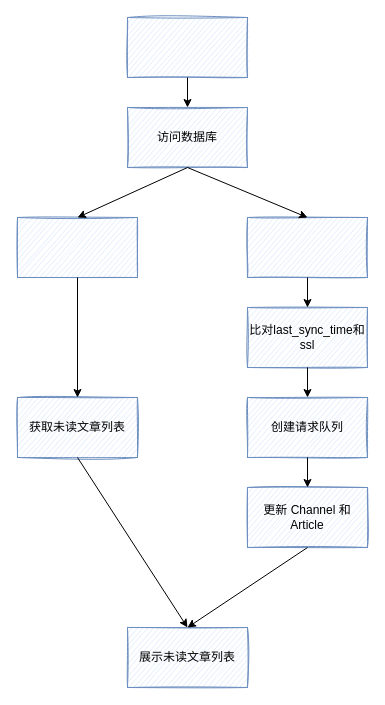
This 385x705 diagram has some shape labels left out. Each missing label, with the box of its shape:
开始: (126, 16, 248, 78)
查询 Articles: (16, 216, 138, 278)
查询 Channel: (246, 216, 368, 278)
